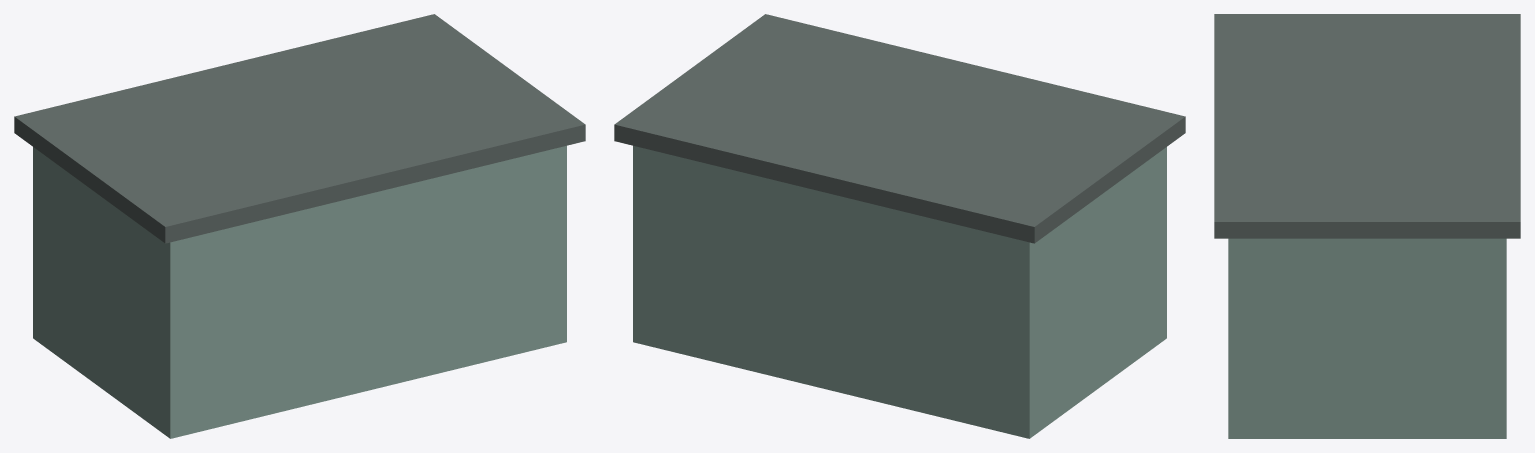
Rendered from Heated-greenhouse.glb.
3 views of the same model, side by side, from view 1: azimuth 30°, elevation 25°; view 2: azimuth 150°, elevation 25°; view 3: azimuth 270°, elevation 25° (orthographic).
Parts seen in each view (by area): view 1: heated-greenhouse-static-heated-glass, heated-greenhouse-static-heated-frame; view 2: heated-greenhouse-static-heated-glass, heated-greenhouse-static-heated-frame; view 3: heated-greenhouse-static-heated-frame, heated-greenhouse-static-heated-glass.
Boxes of the visible parts, x1=… form: heated-greenhouse-static-heated-glass: x1=33, y1=145, x2=566, y2=438; heated-greenhouse-static-heated-frame: x1=14, y1=14, x2=585, y2=243; heated-greenhouse-static-heated-glass: x1=633, y1=145, x2=1166, y2=438; heated-greenhouse-static-heated-frame: x1=614, y1=14, x2=1185, y2=243; heated-greenhouse-static-heated-frame: x1=1214, y1=14, x2=1520, y2=238; heated-greenhouse-static-heated-glass: x1=1228, y1=238, x2=1506, y2=438.
Bounding box in the file's own units: 5.3 × 2.65 × 3.3.
